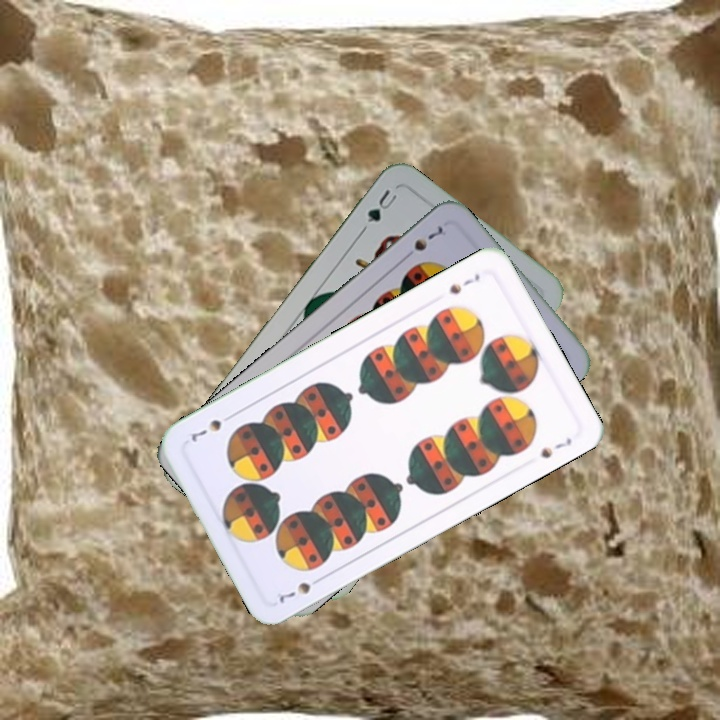GU: (363, 185, 400, 225)
S7: (399, 222, 446, 263), (272, 572, 327, 606), (445, 269, 483, 297)
